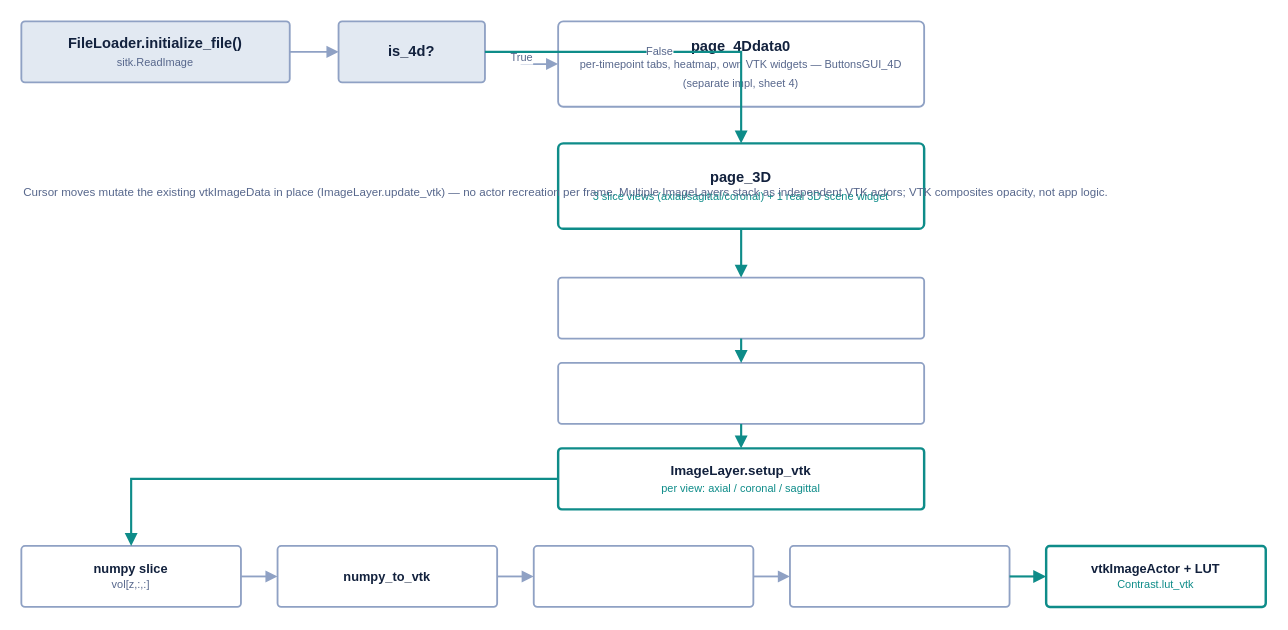
Image size: 1288x630. Some labels were removed from this diagram. Here are the shapes that lost their labels. From the top down, the box of each, then its label:
(557, 276, 925, 339): LoadMRI.volumes[data_index] MRIVolume: numpy array + spacing
(557, 361, 925, 424): ButtonsGUI_3D.buttons_3D
(532, 544, 754, 607): vtkImageData
(788, 544, 1010, 607): vtkImageReslice cubic / nearest
